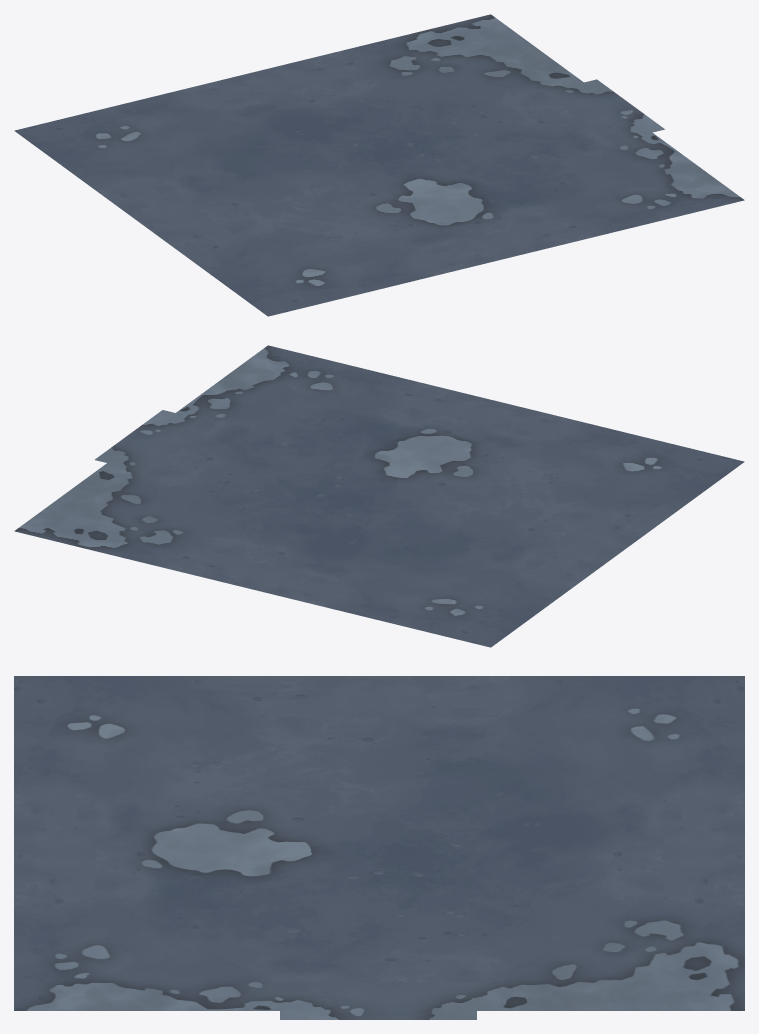
The model's file is dungeon_ground_entrydeadend.FBX.
3 renders of one model, top to bottom at view 1: azimuth 30°, elevation 25°; view 2: azimuth 150°, elevation 25°; view 3: azimuth 270°, elevation 25°, orthographic. The views are drawn at different scales.
Visible parts, largest first — view 1: entry; view 2: entry; view 3: entry.
Part boxes in pixels (left/top/right/bottom): entry: left=14, top=14, right=744, bottom=316; entry: left=14, top=345, right=744, bottom=647; entry: left=14, top=676, right=744, bottom=1019.
Size of the model in its own units: 950 by 5.23e-14 by 854.
1 material, 1 textured.
